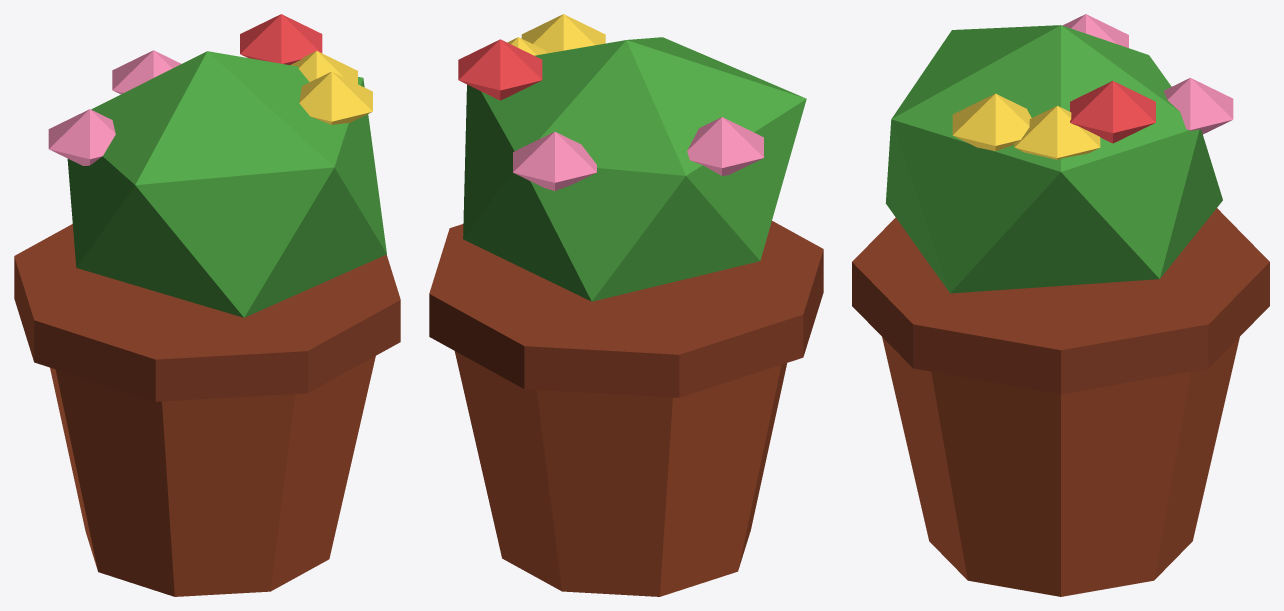
The model's file is Flower_Pot.fbx.
3 views of the same model, side by side, from view 1: azimuth 30°, elevation 25°; view 2: azimuth 150°, elevation 25°; view 3: azimuth 270°, elevation 25° (orthographic). The views are drawn at different scales.
Parts seen in each view (by area): view 1: Flower_Pot; view 2: Flower_Pot; view 3: Flower_Pot.
Boxes of the visible parts, <box> form: Flower_Pot: <box>14,14,400,596</box>; Flower_Pot: <box>429,14,823,596</box>; Flower_Pot: <box>852,14,1269,596</box>.
Bounding box in the file's own units: 0.5474 × 0.746 × 0.5474.
